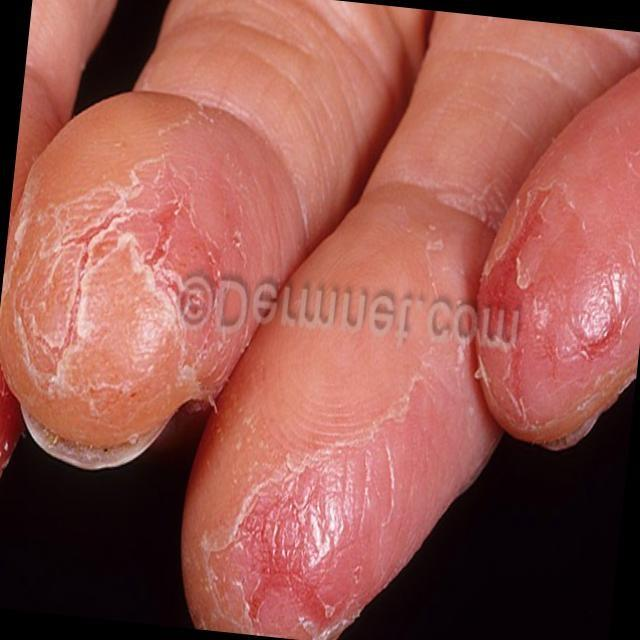Eczema: (13, 139, 235, 451), (208, 386, 438, 639), (464, 141, 640, 436)
